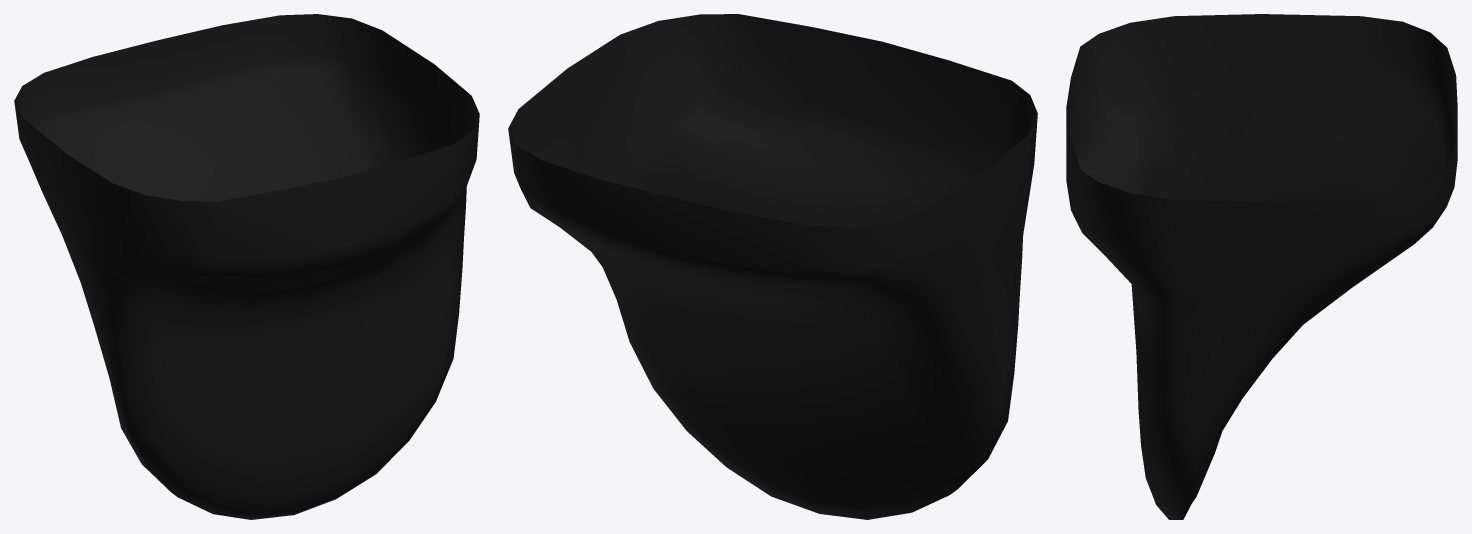
Rendered from trigger.obj.
3 renders of one model, left to right at view 1: azimuth 30°, elevation 25°; view 2: azimuth 150°, elevation 25°; view 3: azimuth 270°, elevation 25°, orthographic. The views are drawn at different scales.
Visible parts, largest first — view 1: polySurface275_polySurface289; view 2: polySurface275_polySurface289; view 3: polySurface275_polySurface289.
Boxes of the visible parts, <box> form: polySurface275_polySurface289: <box>14,14,479,519</box>; polySurface275_polySurface289: <box>508,14,1037,519</box>; polySurface275_polySurface289: <box>1066,14,1457,519</box>.
Size of the model in its own units: 0.0246 by 0.0239 by 0.0217.
Materials: 1 (1 with a texture image).
